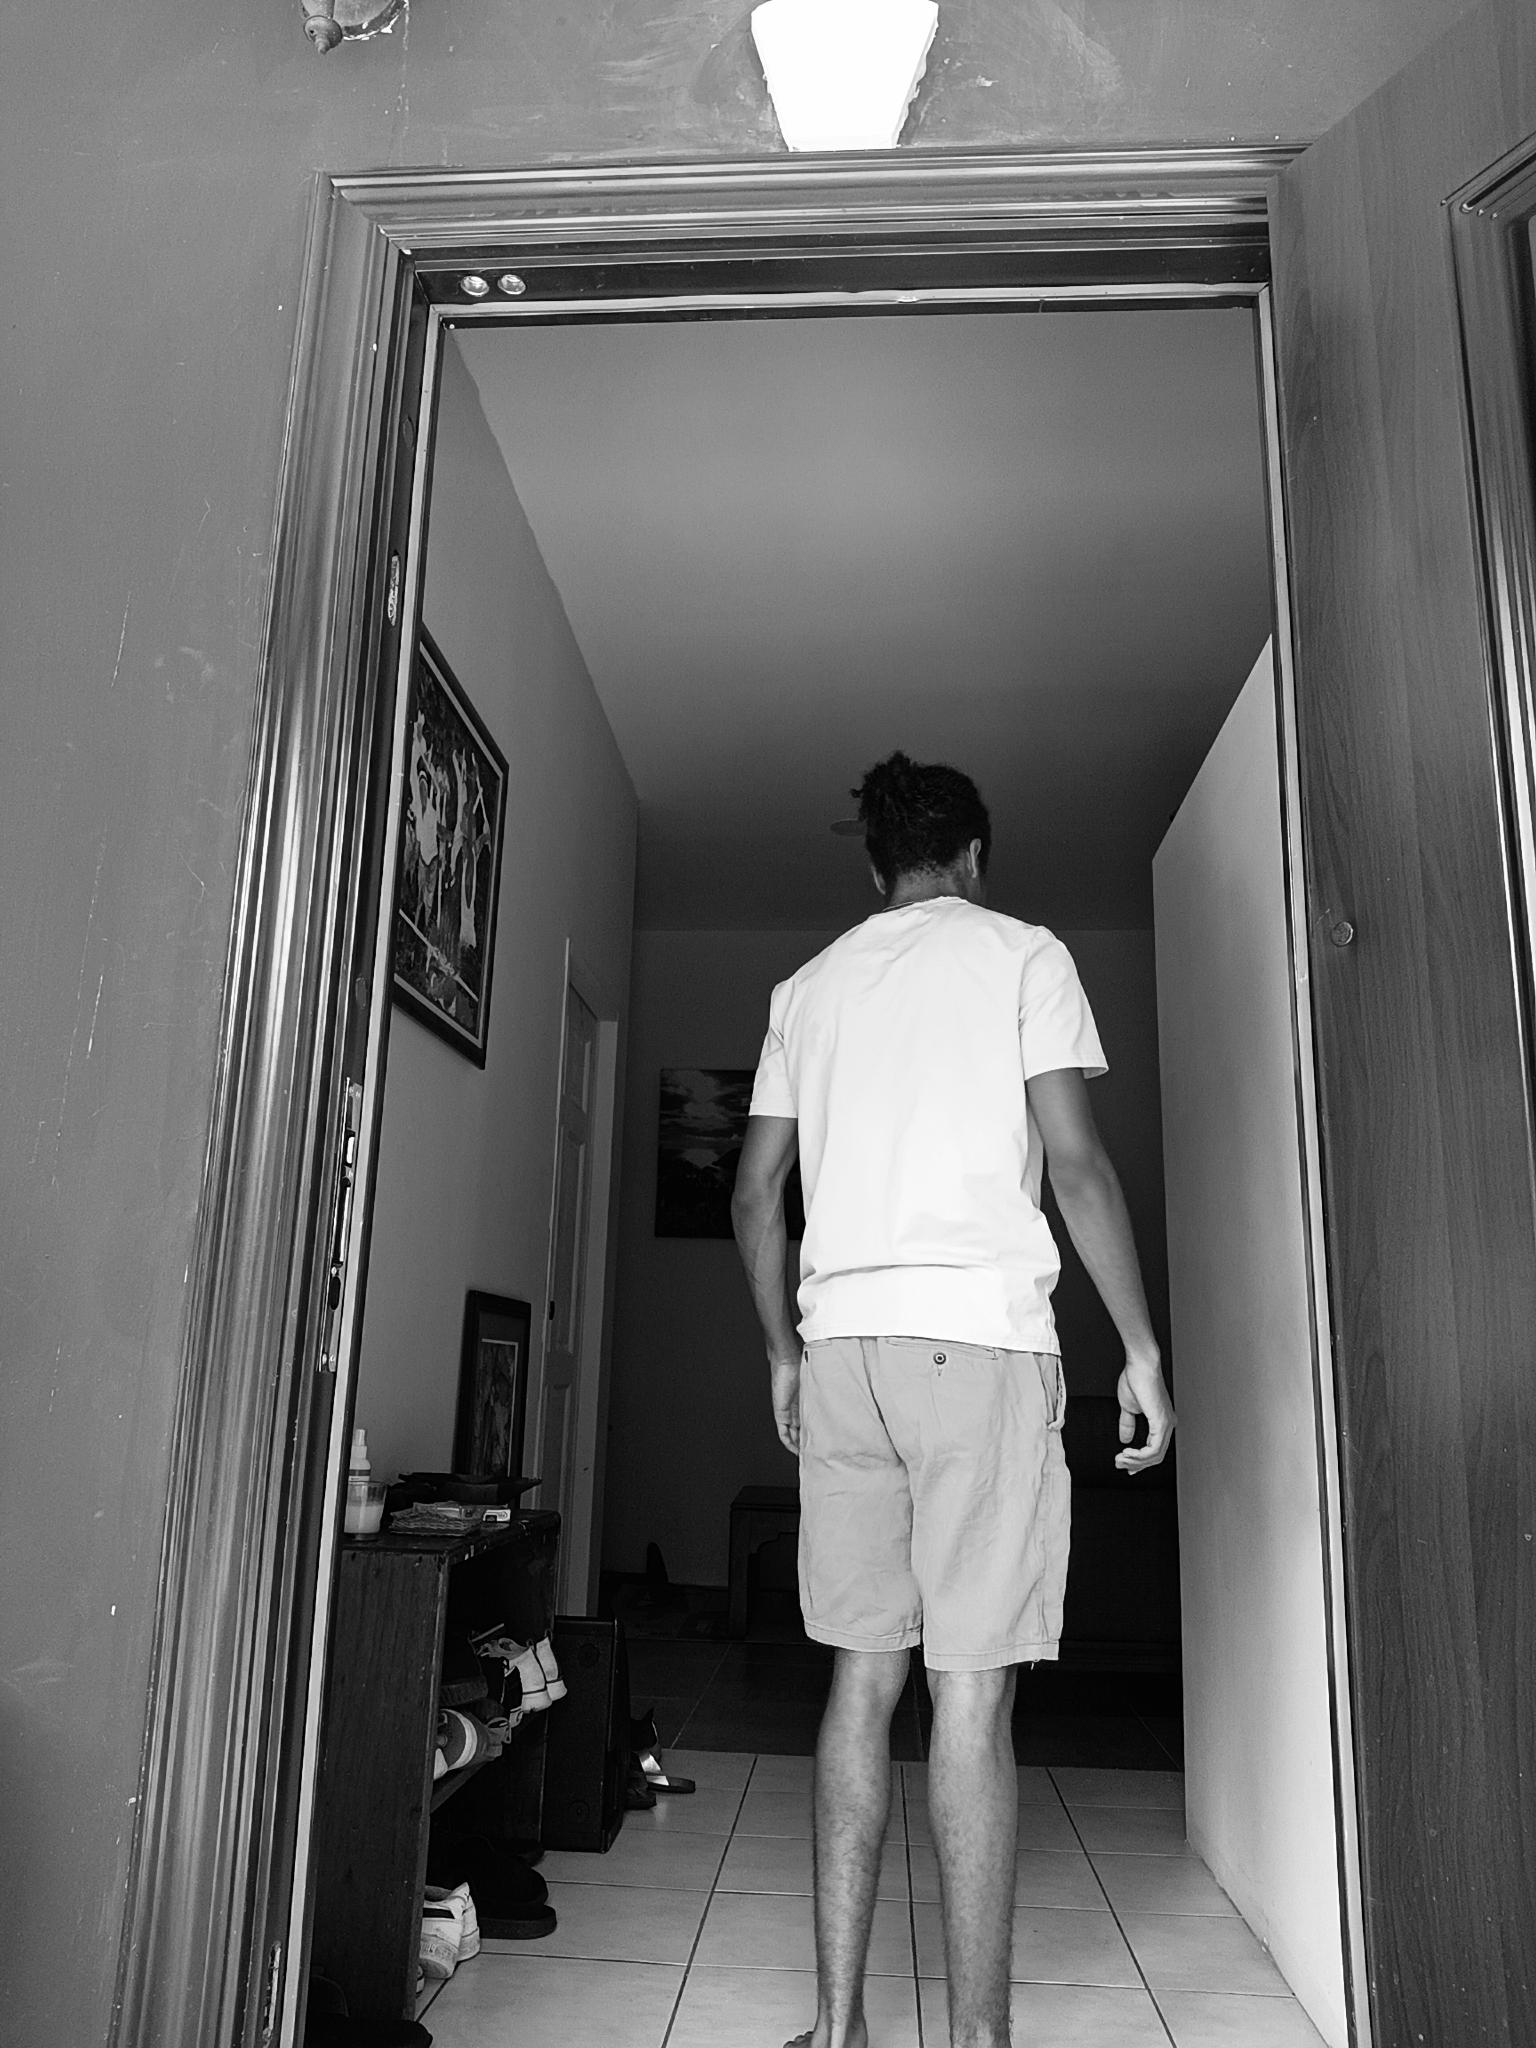back: (723, 747, 1178, 2042)
